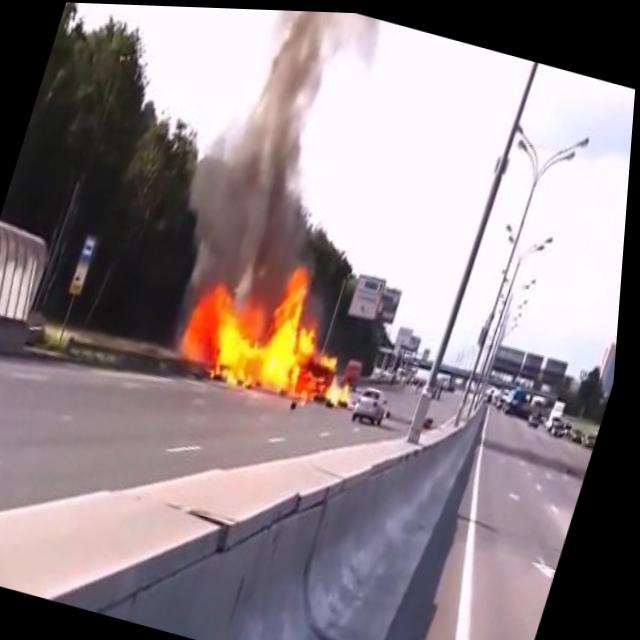fire: (172, 232, 346, 402), (318, 350, 368, 407)
